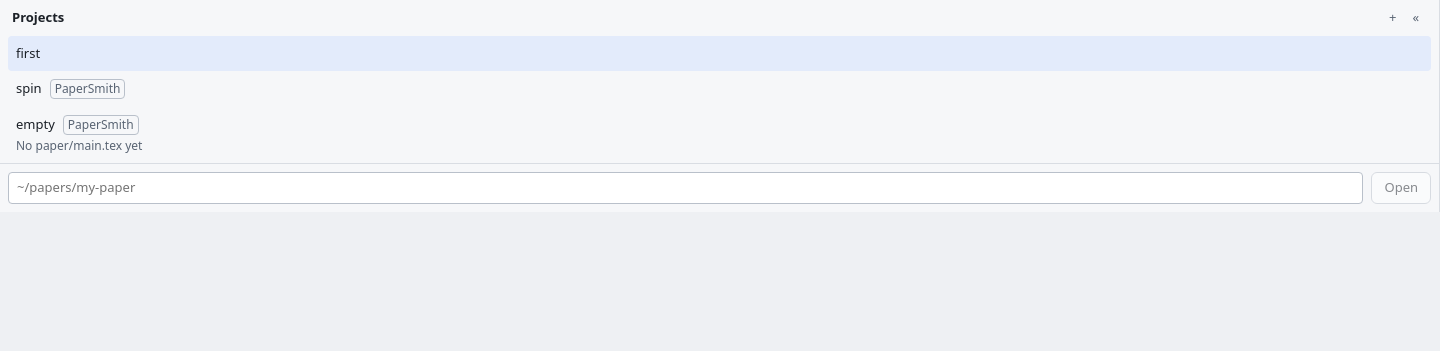
Test: ProjectRail › keeps the name and shows why when it cannot be created
Click the button named "New project" at (1393, 18), box [1381,8,1404,28]
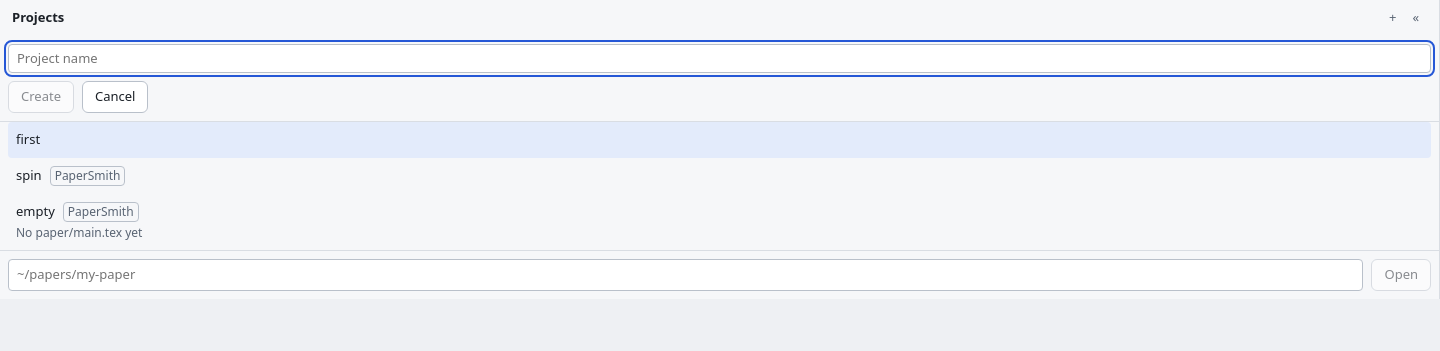
Type "spin" into the field labelled "Project name" at (720, 58), box [8,44,1431,73]
Then press Enter
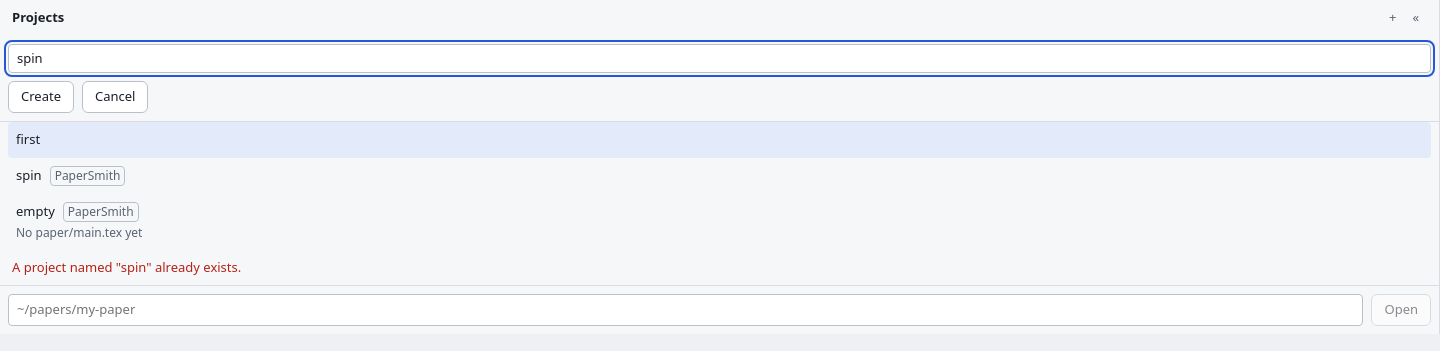
Check: the message shows "already exists", box [12,258,241,276]
